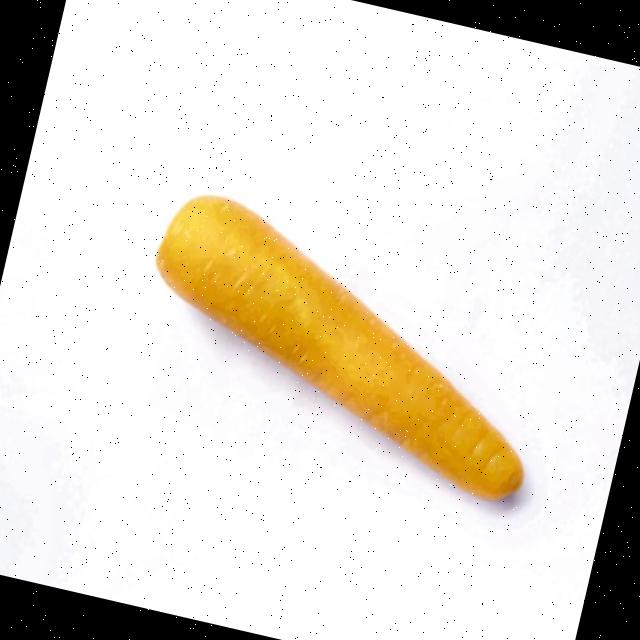carrot: (156, 195, 522, 499)
